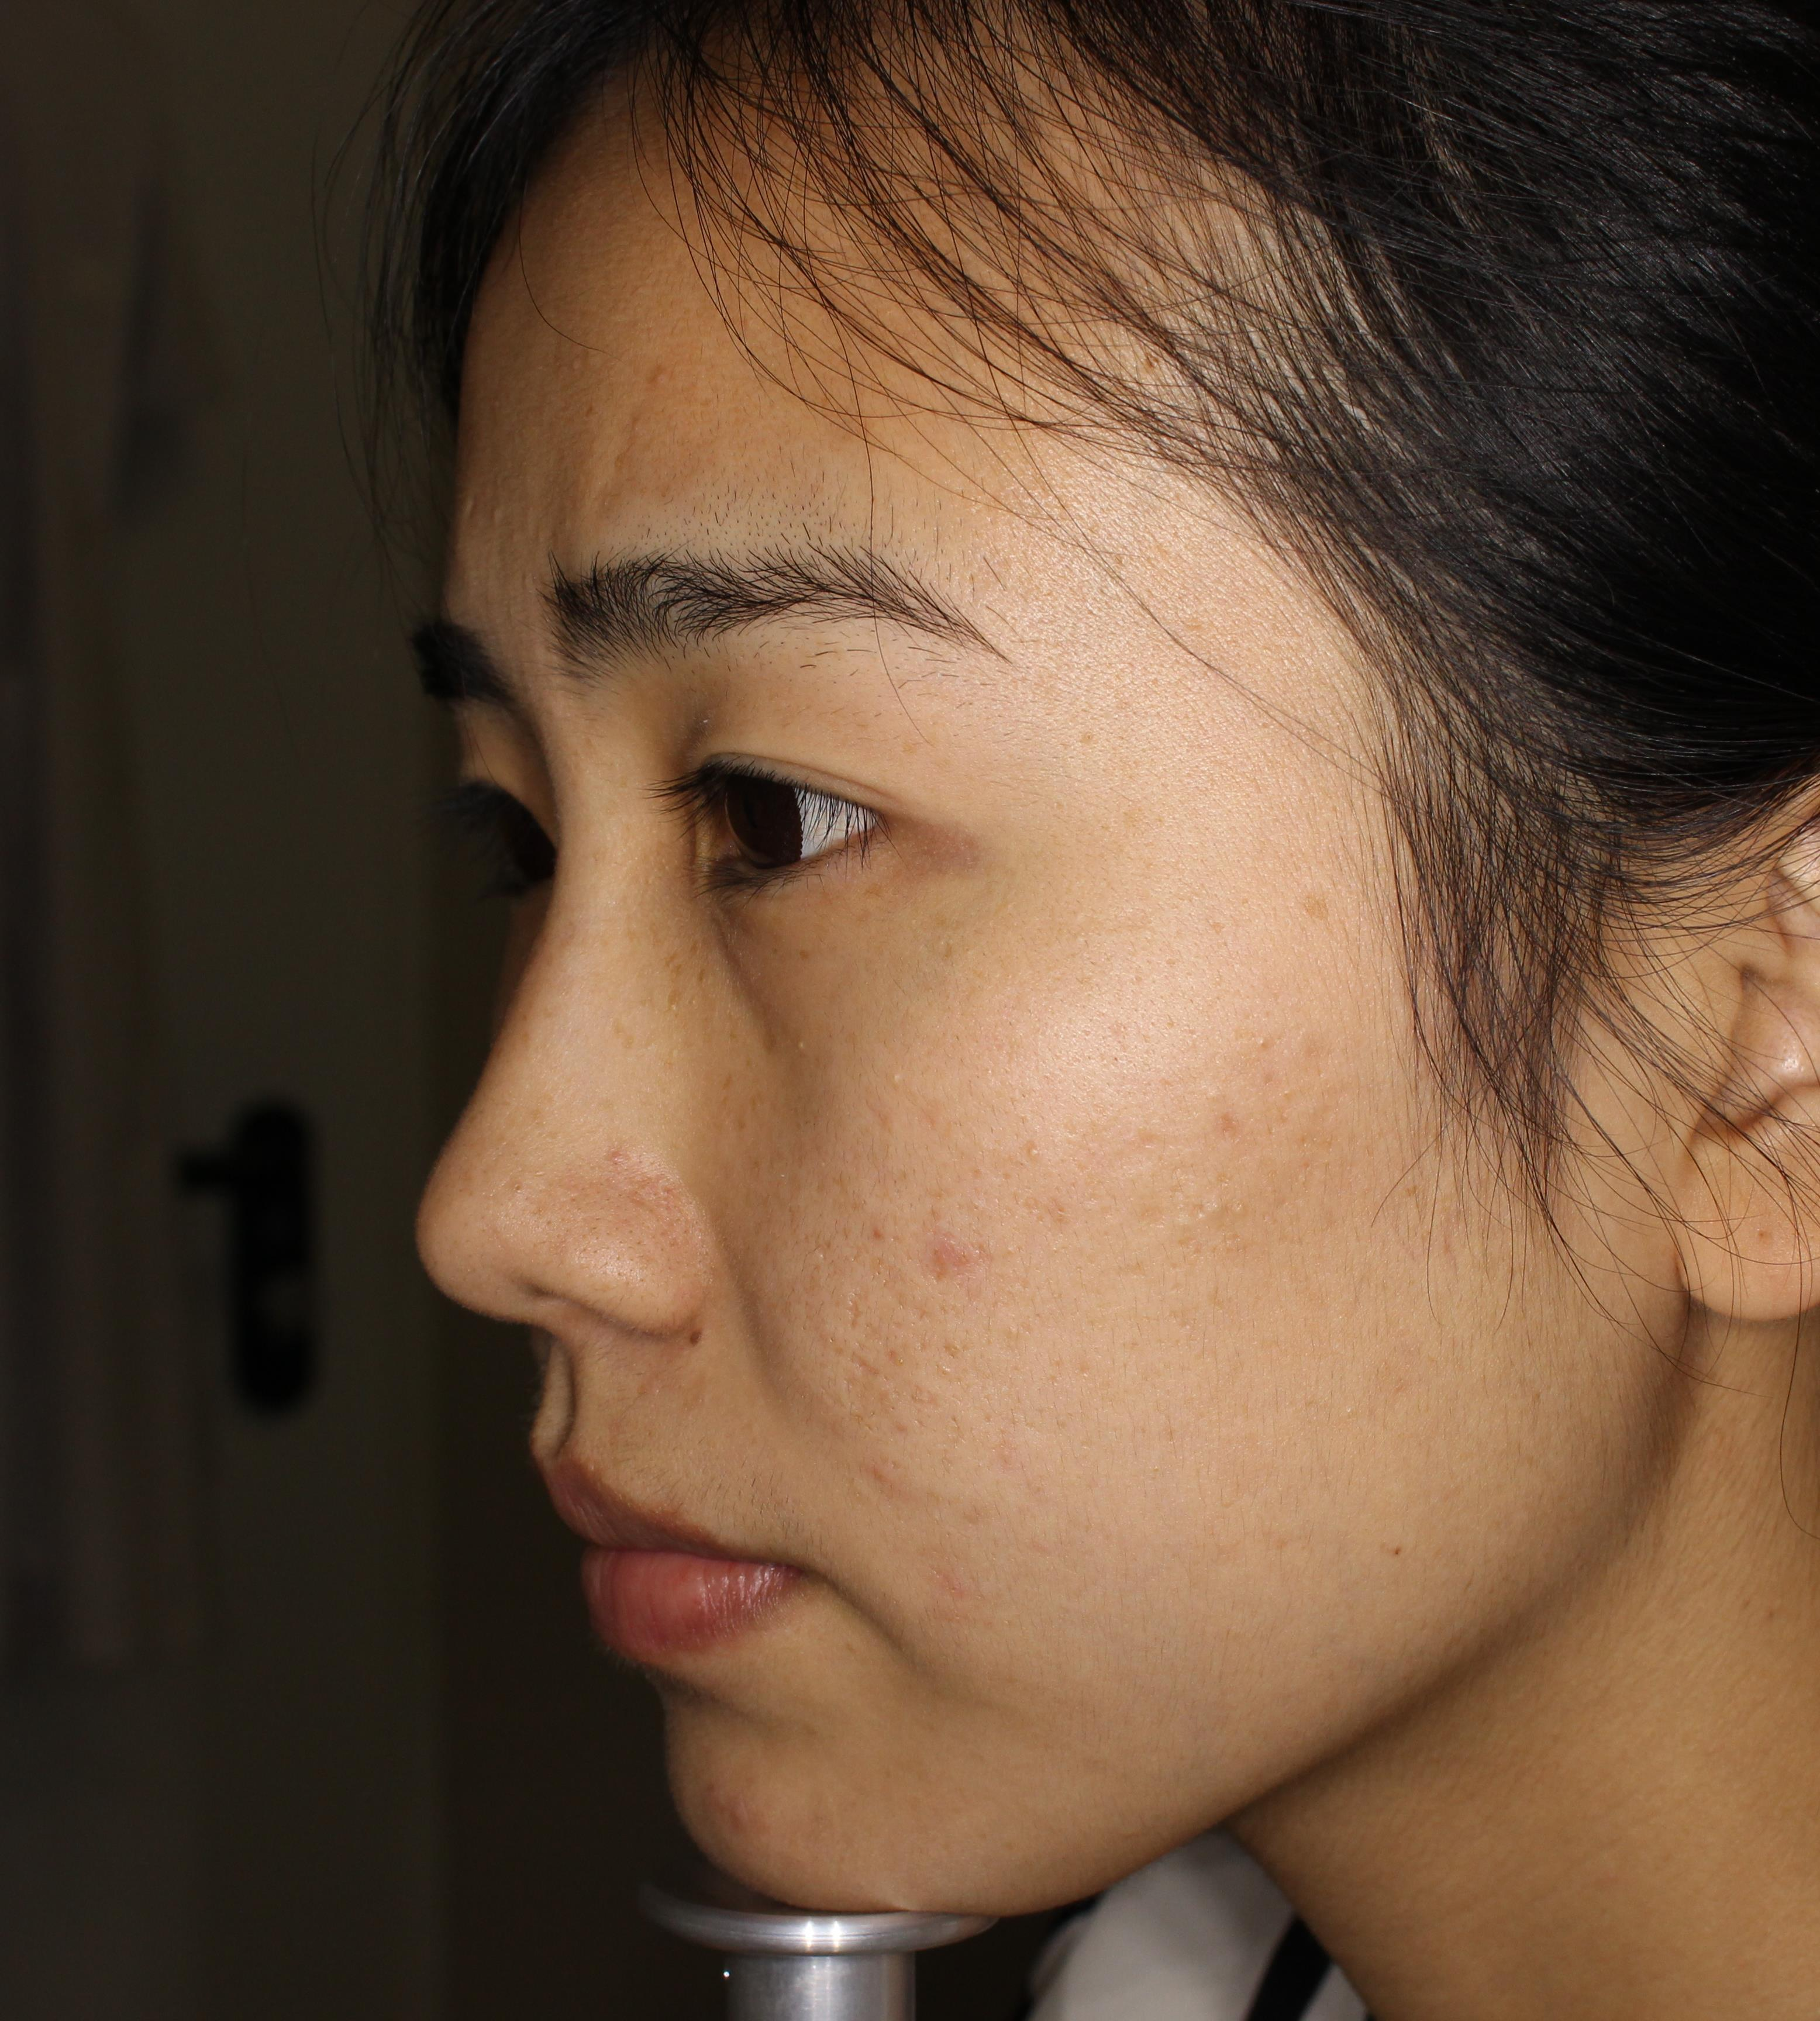fore: (898, 1213, 970, 1298)
